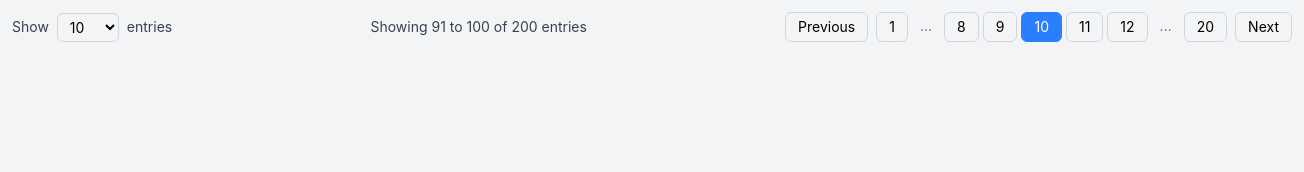
Test: Pagination › with many pages › jumps to the last page and back to the first
The image size is (1304, 172).
Click the button "20": point(1205, 27) [1184,12,1227,42]
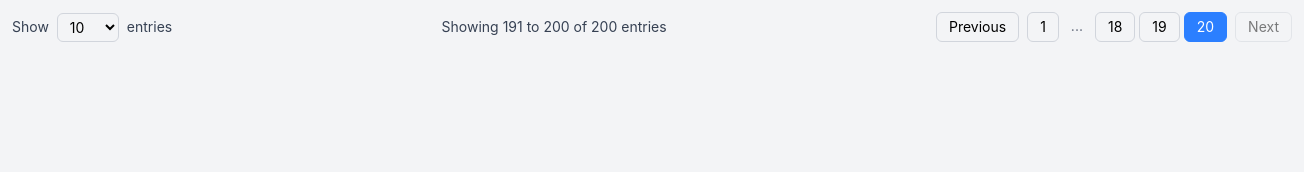
Check: the text "Showing 191 to 200 of 200 entries" is shown, box [442,18,667,35]
Click the button "1": point(1043, 27) [1027,12,1059,42]
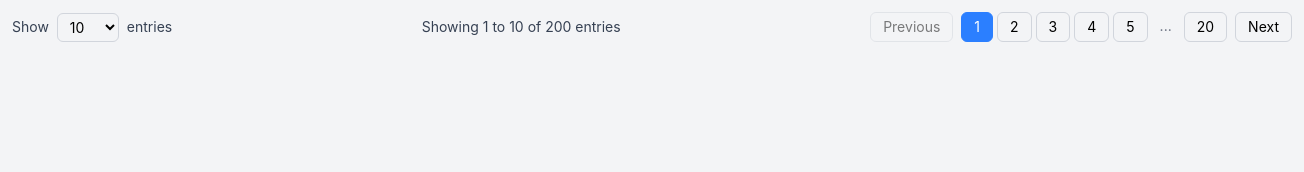
Check: the text "Showing 1 to 10 of 200 entries" is shown, box [422,18,621,35]
